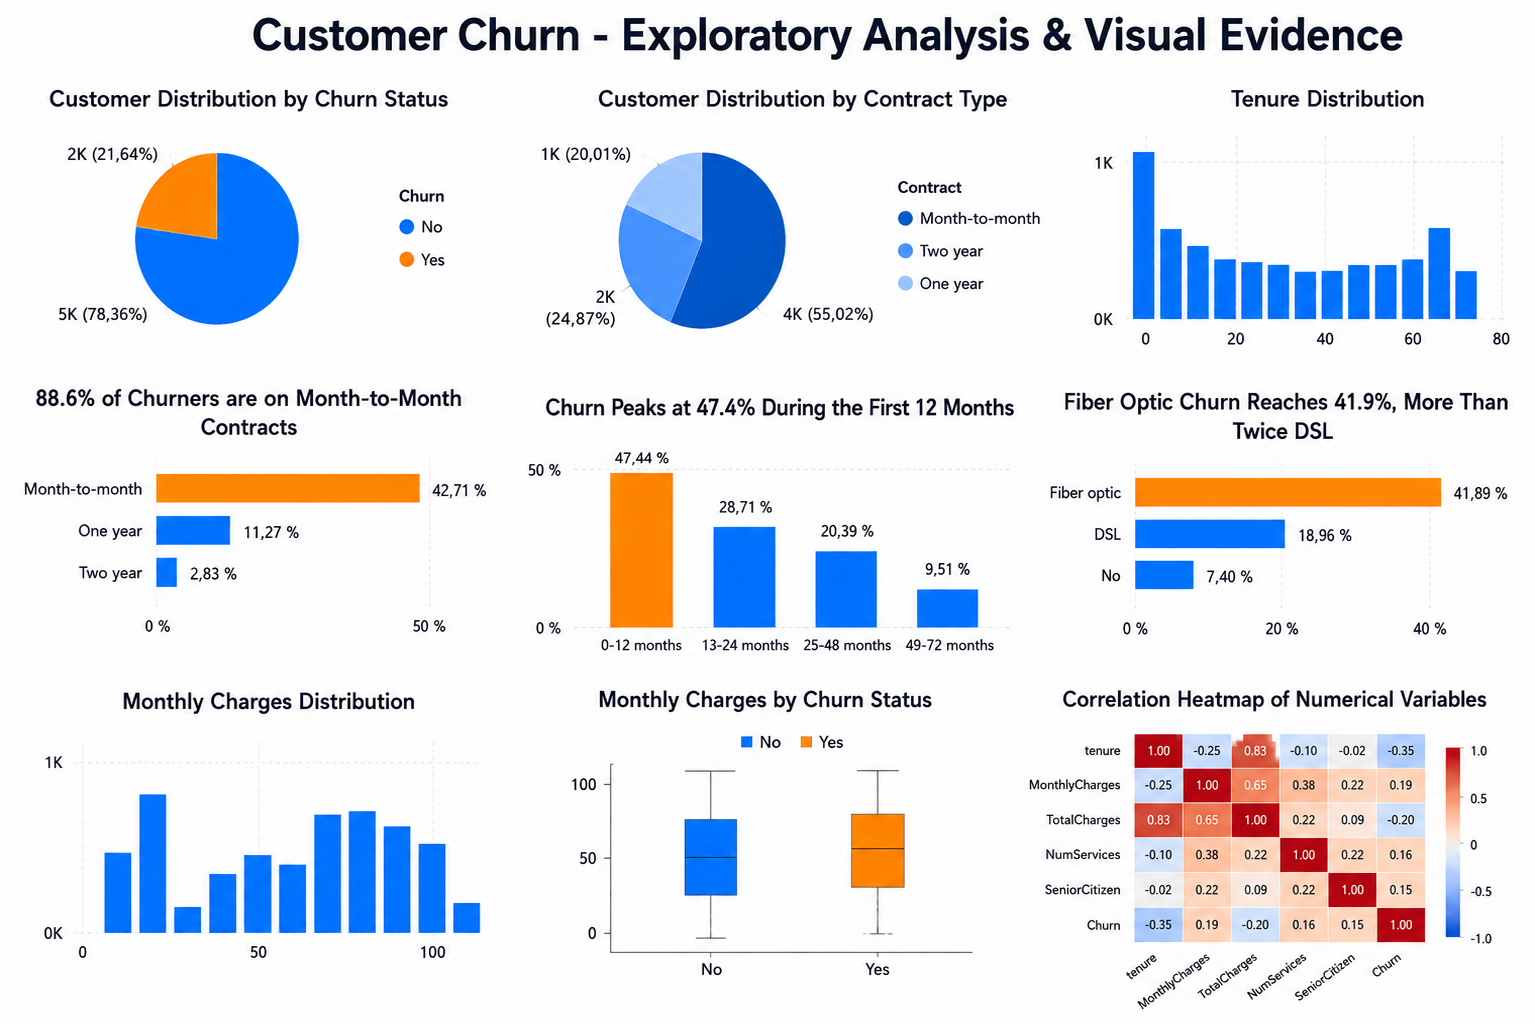

Layout of this report page (visuals, bound fields, positions):
{"tool":"powerbi","page":{"name":"Page 1","canvas":[1280,720],"ordinal":0},"visuals":[{"type":"textbox","box":[137.6,8.8,1017.1,70.2],"z":0},{"type":"pieChart","title":"Customer Distribution by Churn Status ","fields":{"Category":["WA_Fn-UseC_-Telco-Customer-Churn.Churn"],"Y":["WA_Fn-UseC_-Telco-Customer-Churn.Total Clients"]},"box":[24.9,74.6,371.7,171.2],"z":1000},{"type":"pieChart","title":"Customer Distribution by Contract Type","fields":{"Y":["WA_Fn-UseC_-Telco-Customer-Churn.Total Clients"],"Category":["WA_Fn-UseC_-Telco-Customer-Churn.Contract"]},"box":[419.3,76.1,461,174.1],"z":2000},{"type":"clusteredColumnChart","title":"Tenure Distribution ","fields":{"Category":["WA_Fn-UseC_-Telco-Customer-Churn.Tenure (6-Month Bins)"],"Y":["WA_Fn-UseC_-Telco-Customer-Churn.Total Clients"]},"box":[902.9,73.2,348.3,175.6],"z":3000},{"type":"clusteredColumnChart","title":"Monthly Charges Distribution ","fields":{"Y":["WA_Fn-UseC_-Telco-Customer-Churn.Total Clients"],"Category":["WA_Fn-UseC_-Telco-Customer-Churn.Monthly Charges (10-Unit Bins)"]},"box":[39.5,509.3,382,178.5],"z":4000},{"type":"pythonVisual","title":"Monthly Charges by Churn Status ","fields":{"Values":["WA_Fn-UseC_-Telco-Customer-Churn.Churn","WA_Fn-UseC_-Telco-Customer-Churn.MonthlyCharges"]},"box":[388.2,509.3,481.5,178.5],"z":5000},{"type":"pythonVisual","title":"Correlation Heatmap of Numerical Variables","fields":{"Values":["WA_Fn-UseC_-Telco-Customer-Churn.Churn","WA_Fn-UseC_-Telco-Customer-Churn.tenure","WA_Fn-UseC_-Telco-Customer-Churn.MonthlyCharges","WA_Fn-UseC_-Telco-Customer-Churn.TotalCharges","WA_Fn-UseC_-Telco-Customer-Churn.SeniorCitizen"]},"box":[836.3,509.3,415,179.2],"z":6000},{"type":"clusteredBarChart","title":"Churn Rate Reaches 42.7% Among Month-to-Month Customers","fields":{"Category":["WA_Fn-UseC_-Telco-Customer-Churn.Contract"],"Y":["WA_Fn-UseC_-Telco-Customer-Churn.Churn Rate"]},"box":[8.8,288.3,409.8,194.6],"z":7000},{"type":"clusteredColumnChart","title":"Churn Peaks at 47.4% During the First 12 Months","fields":{"Category":["WA_Fn-UseC_-Telco-Customer-Churn.Tenure Group"],"Y":["WA_Fn-UseC_-Telco-Customer-Churn.Churn Rate"]},"box":[421.5,287.6,427.3,196.1],"z":8000},{"type":"clusteredBarChart","title":"Fiber Optic Churn Reaches 41.9%, More Than Twice DSL","fields":{"Category":["WA_Fn-UseC_-Telco-Customer-Churn.InternetService"],"Y":["WA_Fn-UseC_-Telco-Customer-Churn.Churn Rate"]},"box":[851.7,288.3,428.8,194.6],"z":9000}]}

Visuals, with their boxes on the page's 1280x720 design canvas (x1, y1, x2, y2). These are canvas units, not pixel positions in the 1535x1024 screenshot, which may show the page scaled, cropped or inside an application window:
textbox: BBox(138, 9, 1155, 79)
"Customer Distribution by Churn Status " pieChart: BBox(25, 75, 397, 246)
"Customer Distribution by Contract Type" pieChart: BBox(419, 76, 880, 250)
"Tenure Distribution " clusteredColumnChart: BBox(903, 73, 1251, 249)
"Monthly Charges Distribution " clusteredColumnChart: BBox(40, 509, 422, 688)
"Monthly Charges by Churn Status " pythonVisual: BBox(388, 509, 870, 688)
"Correlation Heatmap of Numerical Variables" pythonVisual: BBox(836, 509, 1251, 688)
"Churn Rate Reaches 42.7% Among Month-to-Month Customers" clusteredBarChart: BBox(9, 288, 419, 483)
"Churn Peaks at 47.4% During the First 12 Months" clusteredColumnChart: BBox(422, 288, 849, 484)
"Fiber Optic Churn Reaches 41.9%, More Than Twice DSL" clusteredBarChart: BBox(852, 288, 1280, 483)
